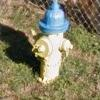Hydrant: (26, 5, 76, 87)
